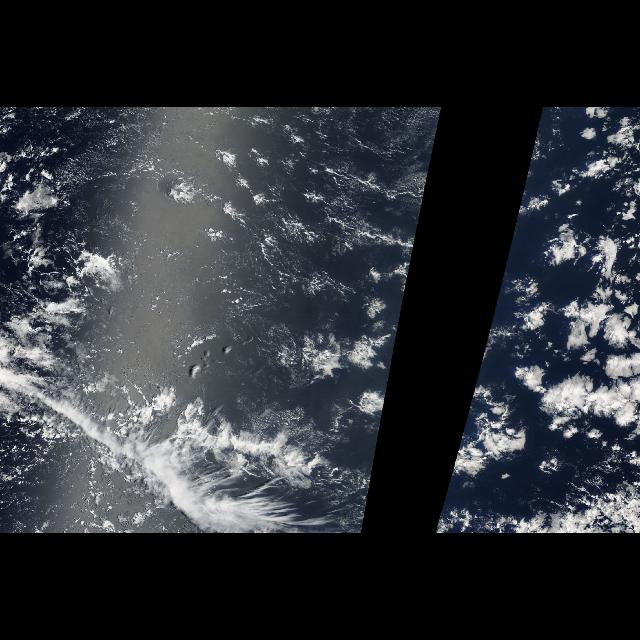Fish: (8, 357, 336, 531)
Flower: (520, 216, 640, 468)
Sugar: (24, 117, 164, 191)
